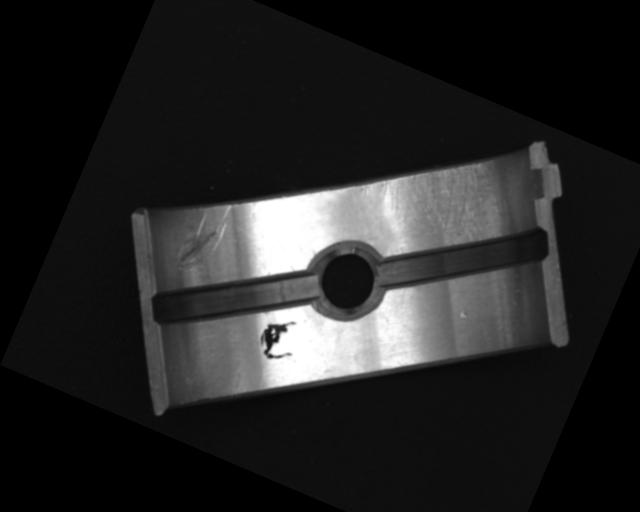blot: (253, 310, 305, 367)
bruise: (458, 308, 471, 321)
gap: (371, 175, 556, 339), (144, 219, 320, 373)
hole: (298, 233, 398, 332)
nick: (169, 190, 236, 281)
scratch: (354, 115, 528, 263)
